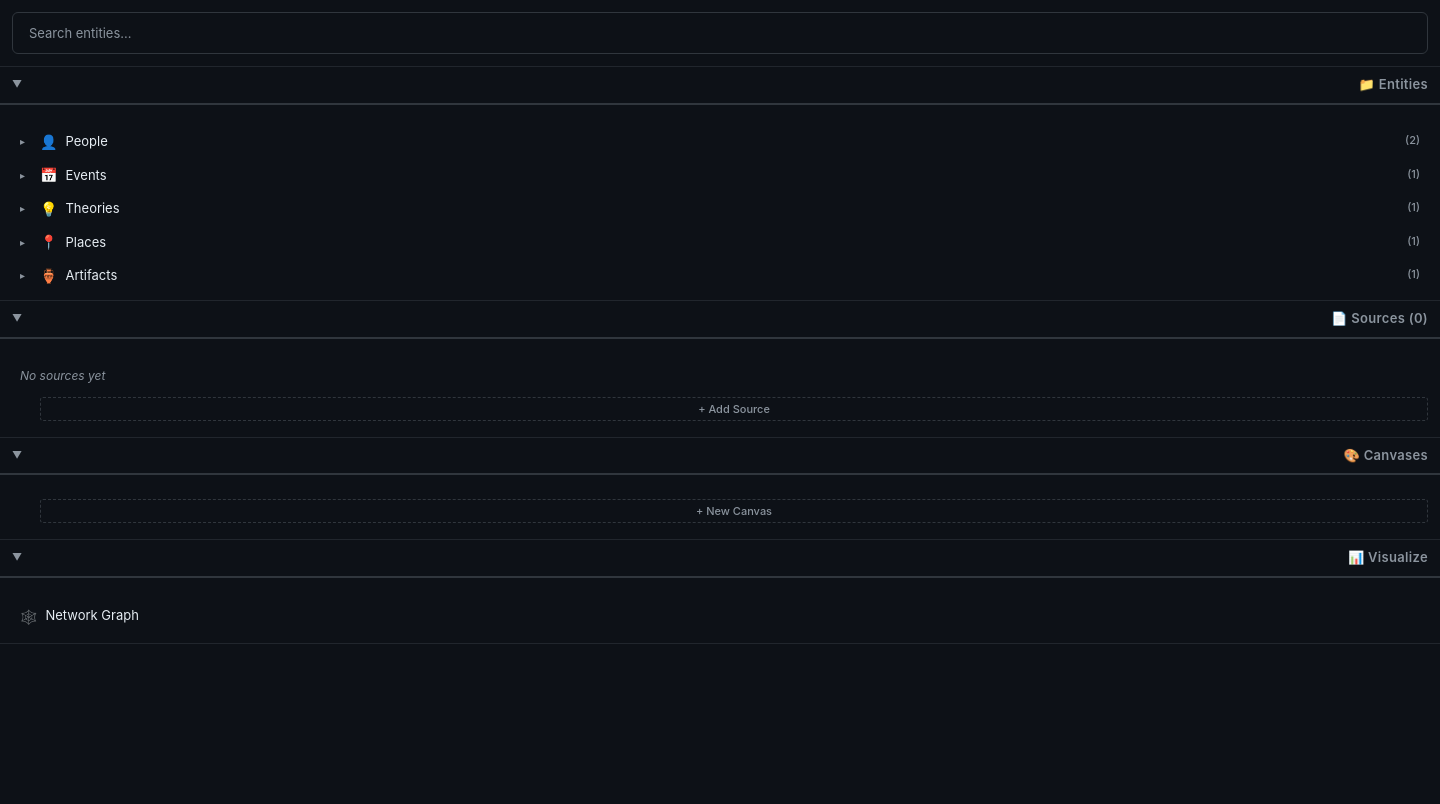
Test case: EntityExplorer › filters entities based on search query
This screenshot has width=1440, height=804.
Type "Aris" into the field with placeholder "Search entities..." at (720, 33), box [12, 12, 1428, 54]
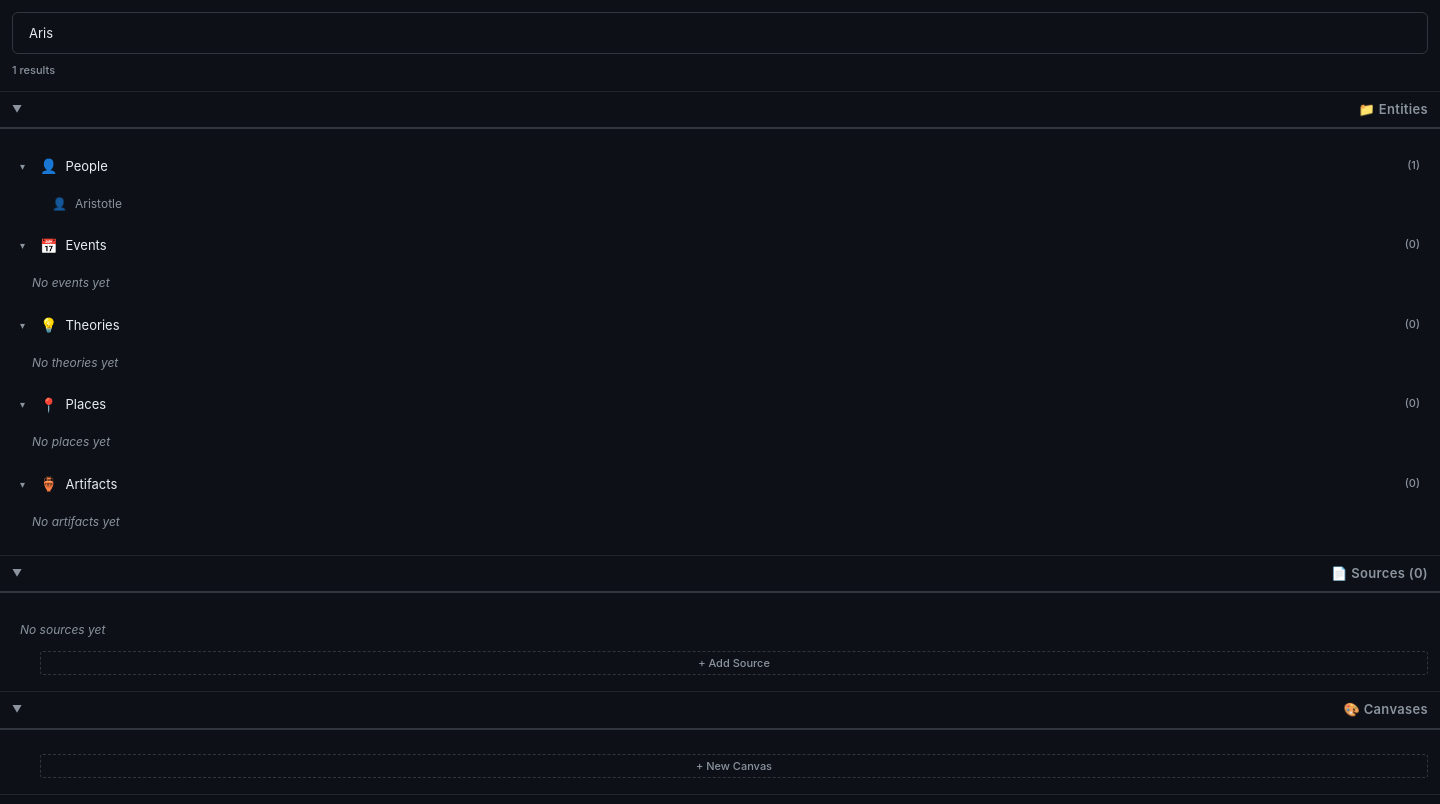
Now the text "Aristotle" is shown, box [75, 196, 122, 210]
